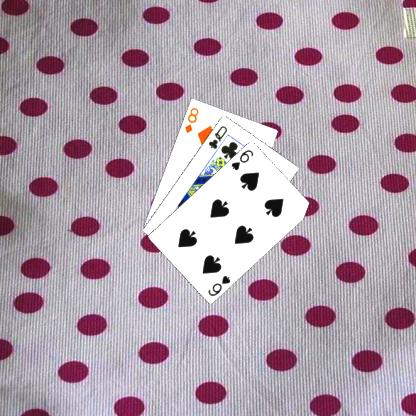6S: (228, 146, 255, 172), (205, 272, 232, 297)
8D: (182, 104, 199, 134)
QC: (205, 123, 229, 150)
